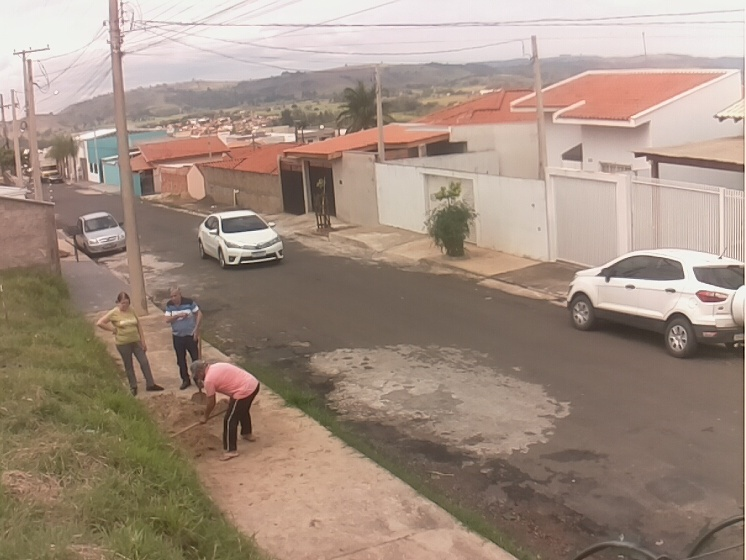person: (190, 359, 262, 463), (97, 291, 165, 395), (165, 286, 205, 389)
